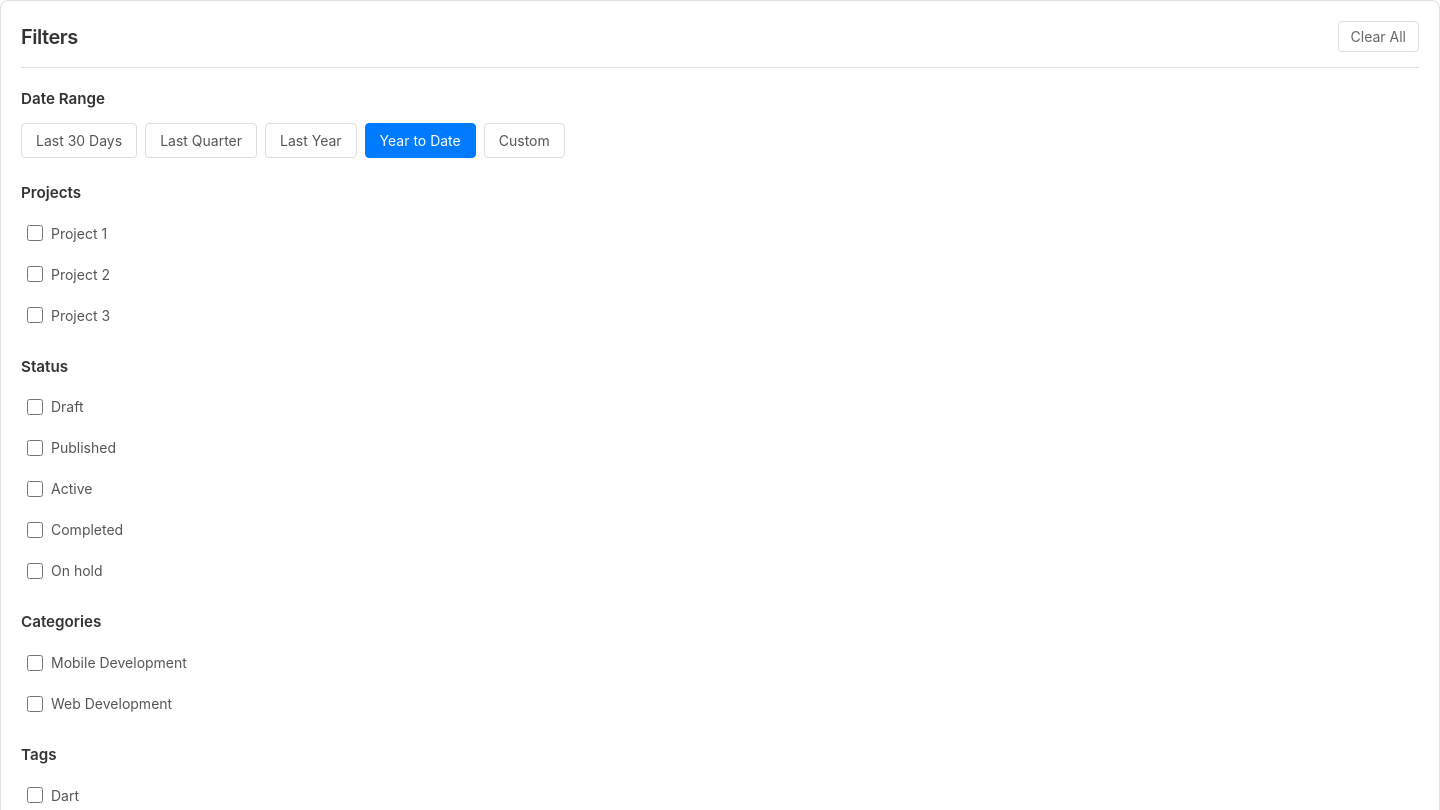
Scenario: FilterPanel › shows custom date inputs when Custom is selected
Click the button "Custom" at (524, 140), box [484, 123, 565, 158]
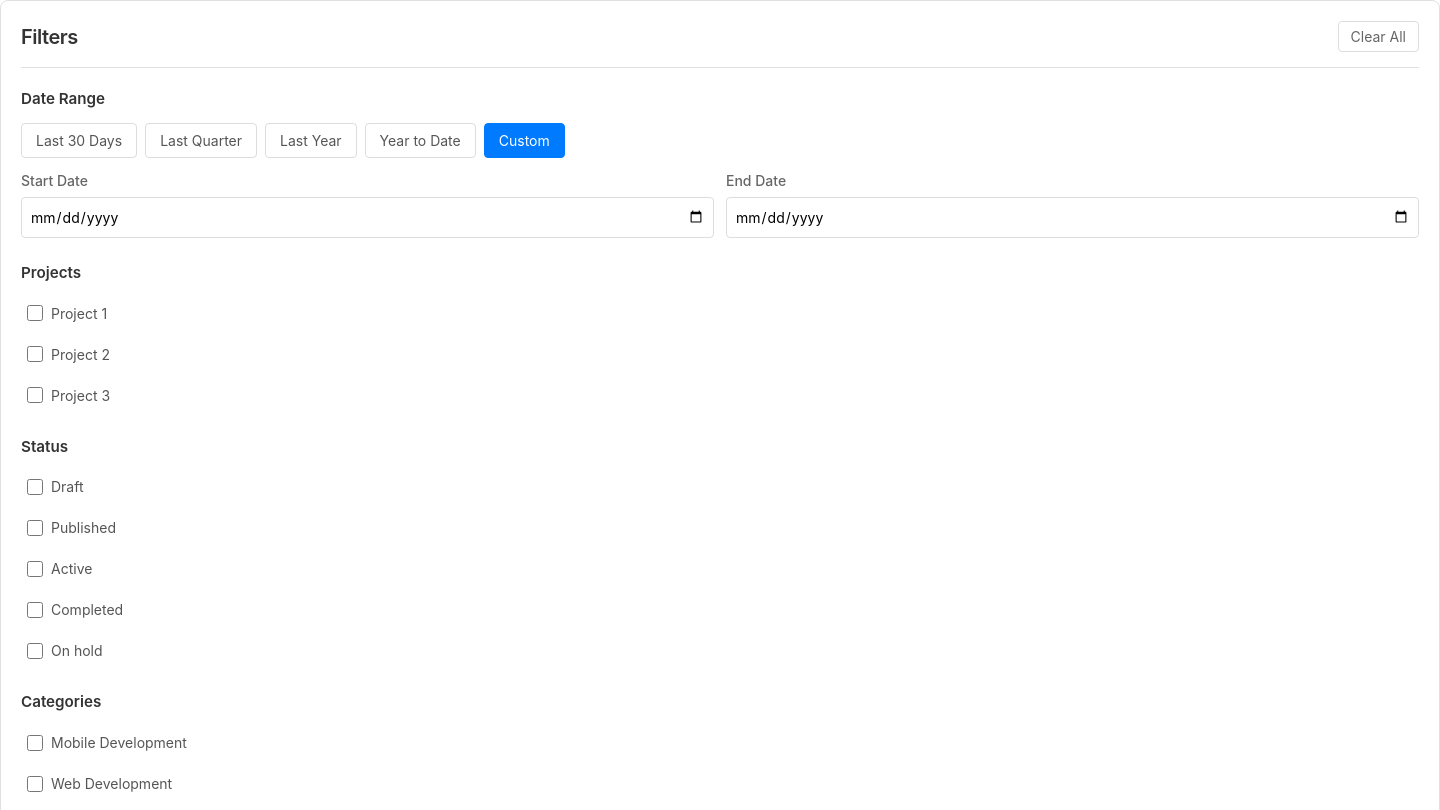
Check: the date field labelled "Start Date" is shown, box [21, 197, 714, 238]
Check: the date field labelled "End Date" is shown, box [726, 197, 1419, 238]
